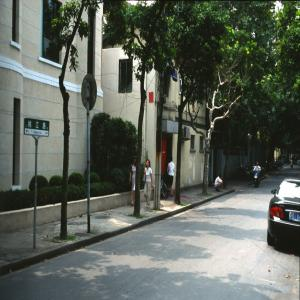Vehicle-registration-plate: (291, 214, 300, 224)
